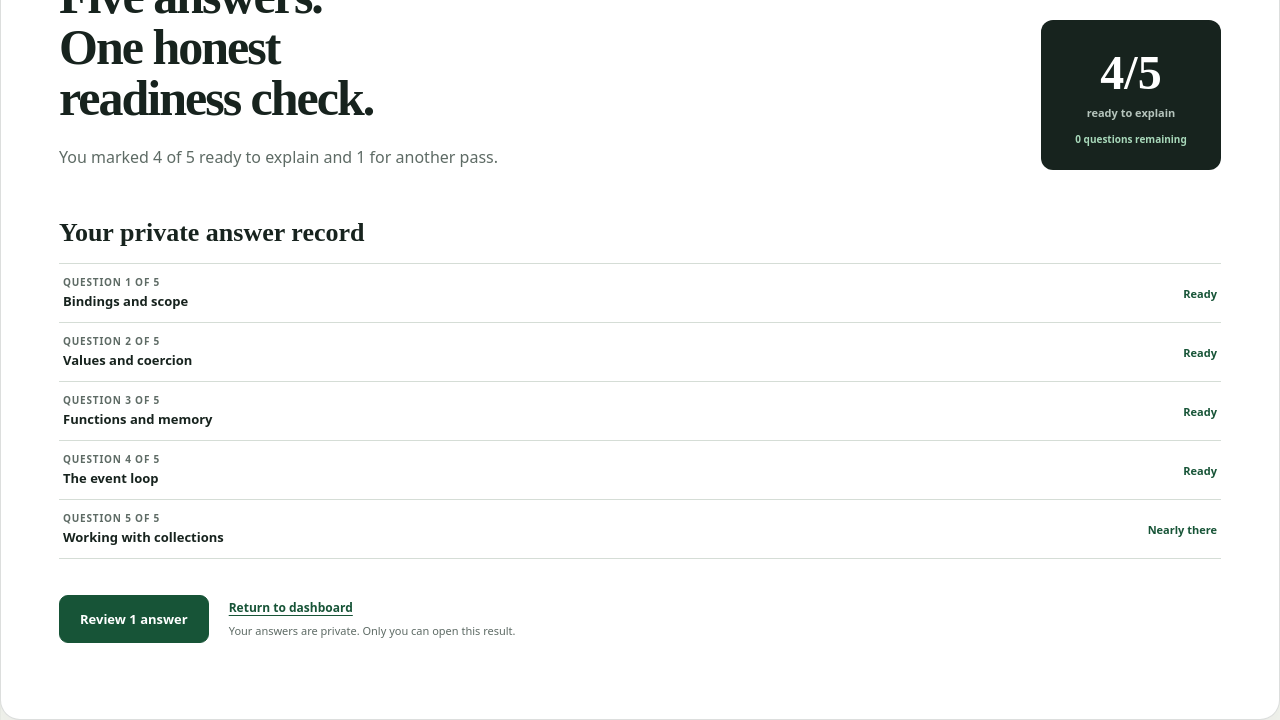
Scenario: InterviewDrill › keeps an answer in review until its saved rating becomes ready
(page scrolled)
Click the button "Review 1 answer" at (134, 619), box [59,595,209,643]
(page scrolled)
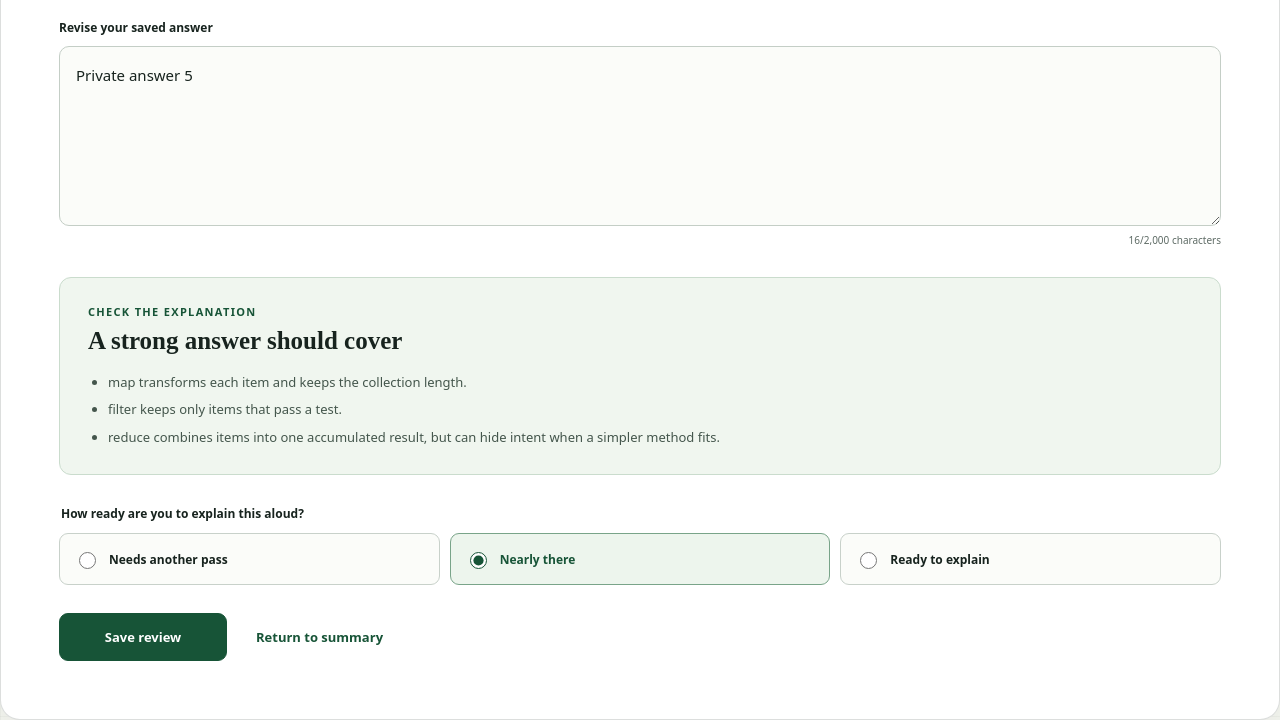
Click the button "Save review" at (143, 637), box [59,613,227,661]
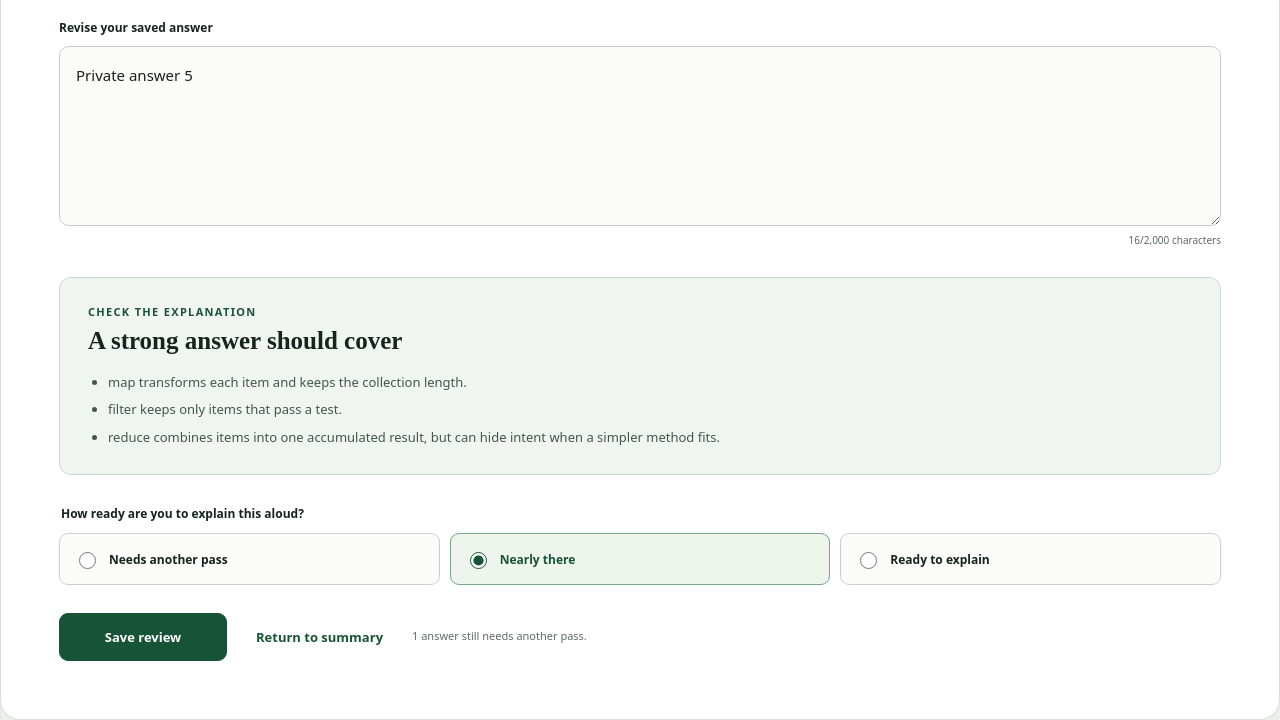
Result: the text box labelled "Revise your saved answer 16/2,000 characters" holds "Private answer 5" at [59,46,1221,226]
Result: the radio button labelled "Nearly there" is checked at [470,552,487,569]
Result: the message reads "1 answer still needs another pass." at [412,628,587,643]
